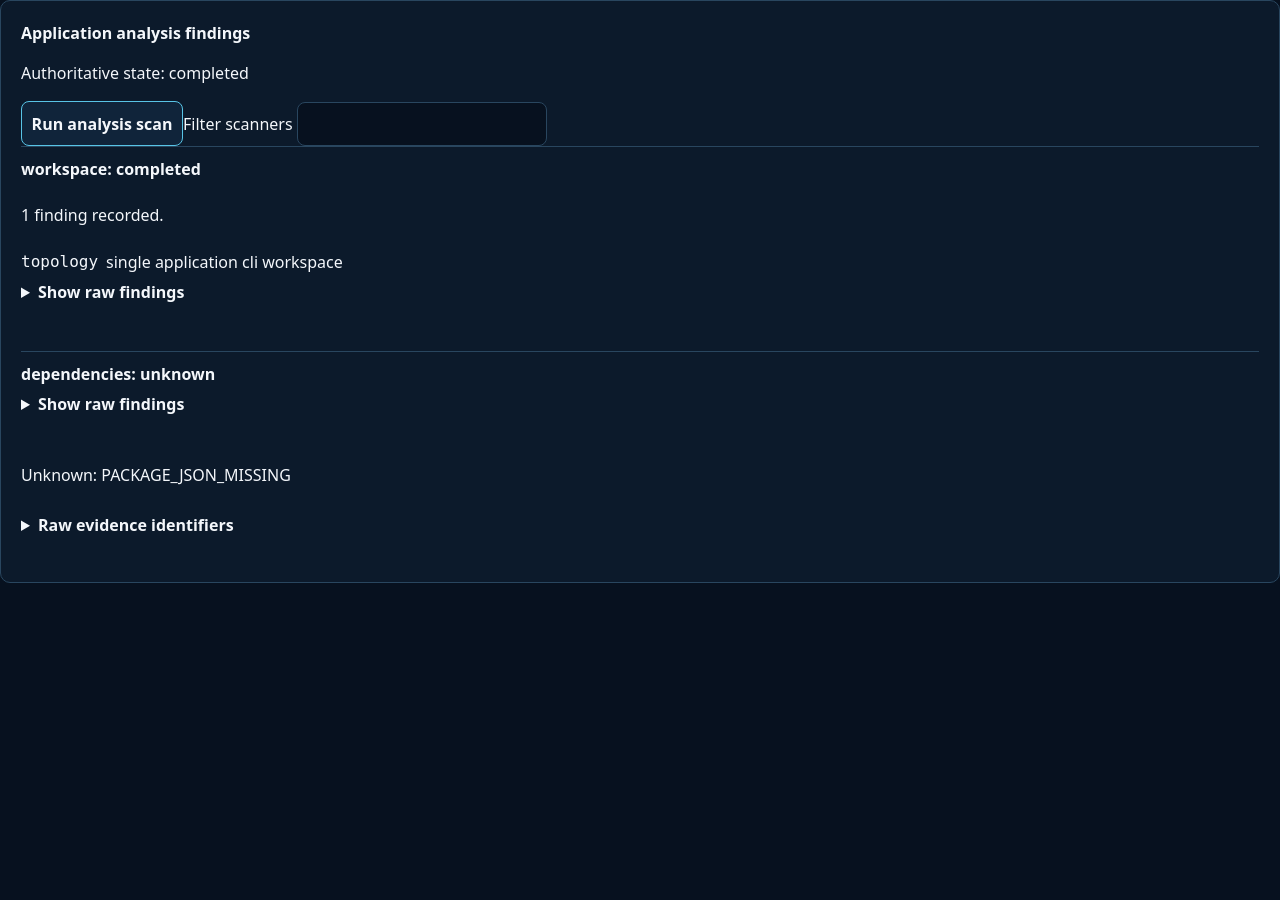
Test: DiscoveryFindingsPanel › renders authoritative facts, unknown markers, filtering, and safe artifact links
Expected: the text "Unknown: PACKAGE_JSON_MISSING" is shown, x1=21 y1=464 x2=291 y2=486
Click the heading "Raw evidence identifiers" at (136, 525), box x1=38 y1=514 x2=234 y2=536
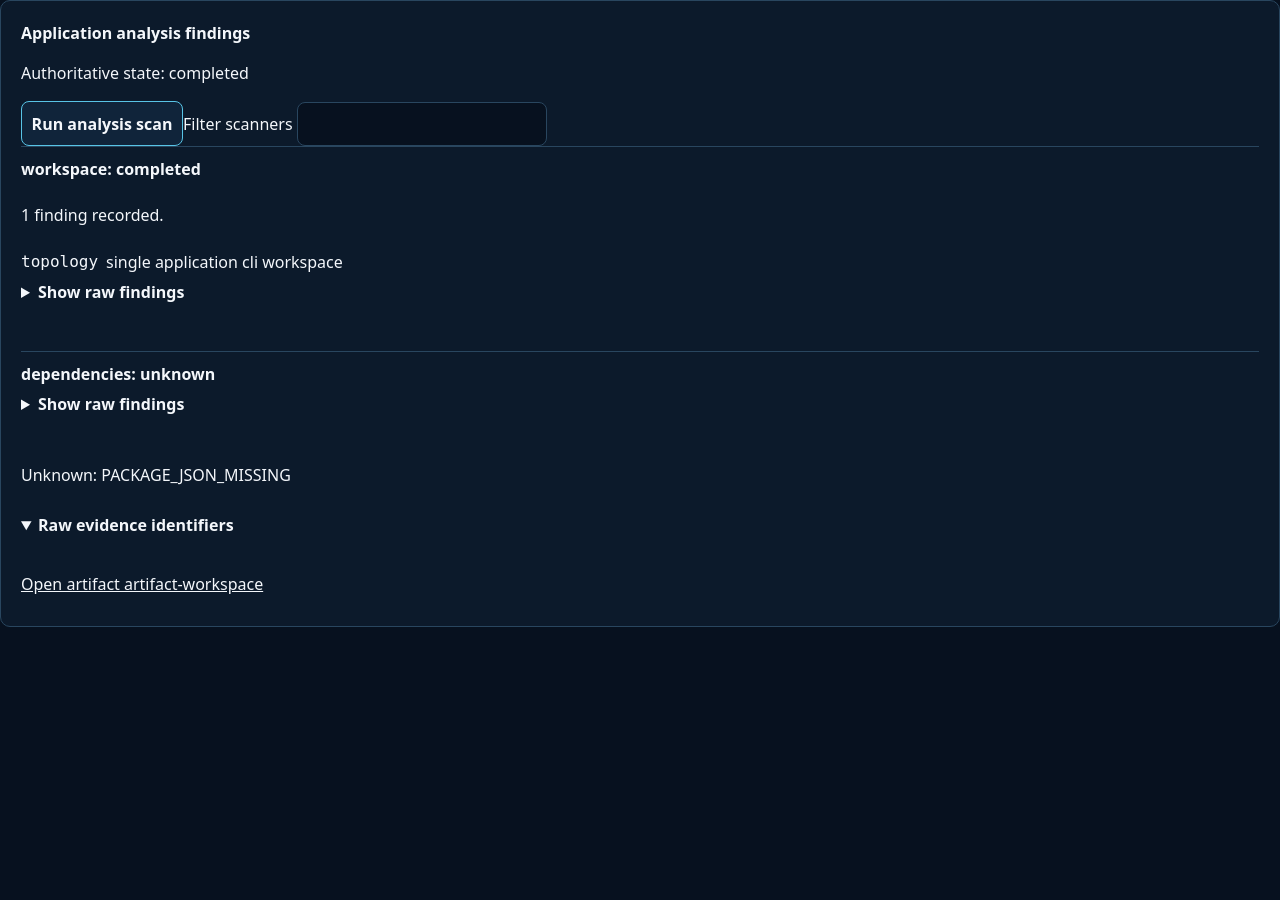
Type "none" into the field labelled "Filter scanners" at (422, 124), box x1=297 y1=102 x2=547 y2=146
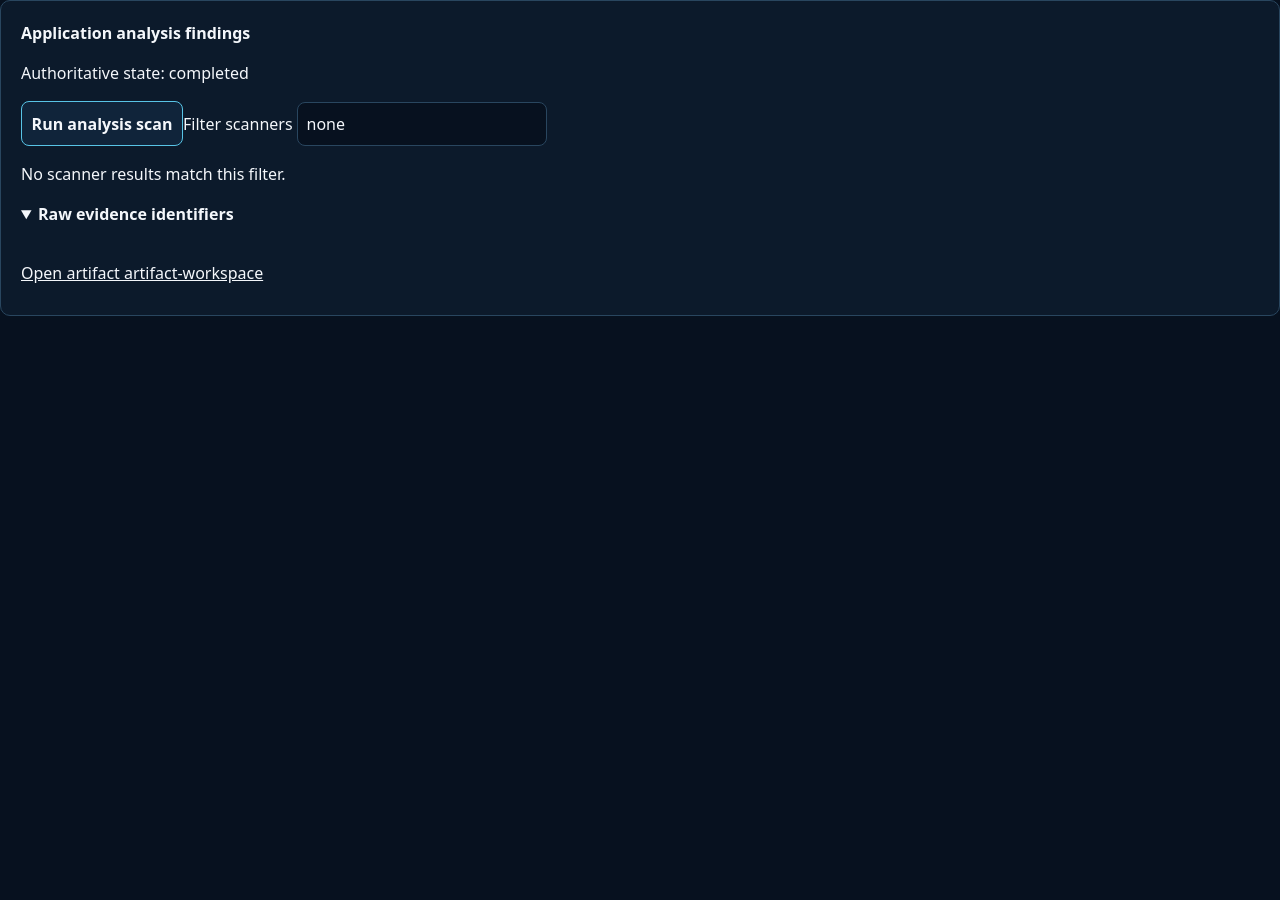
Result: the text "No scanner results match this filter." is shown at x1=21 y1=163 x2=285 y2=185
